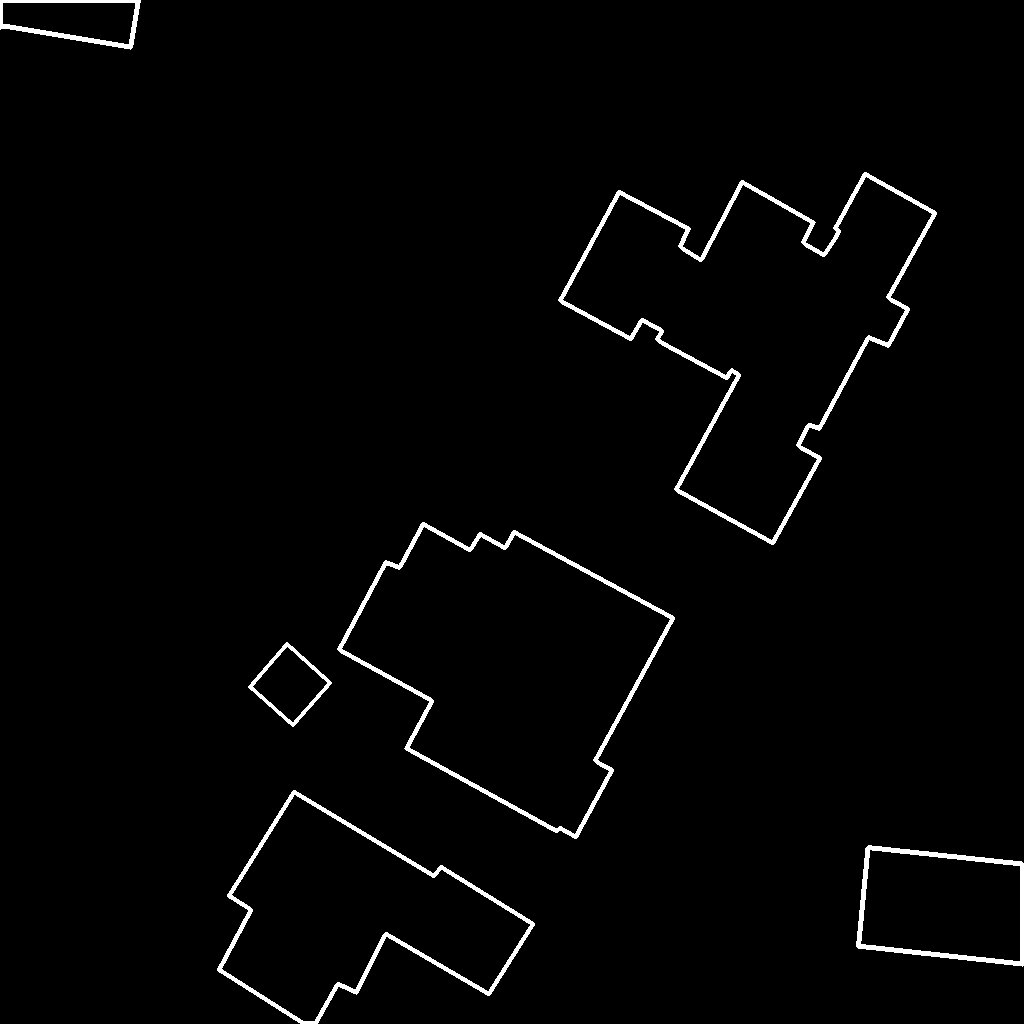building: (560, 174, 936, 544), (339, 524, 674, 838), (219, 792, 534, 1024), (858, 847, 1024, 965), (0, 0, 140, 48), (250, 644, 331, 726)
